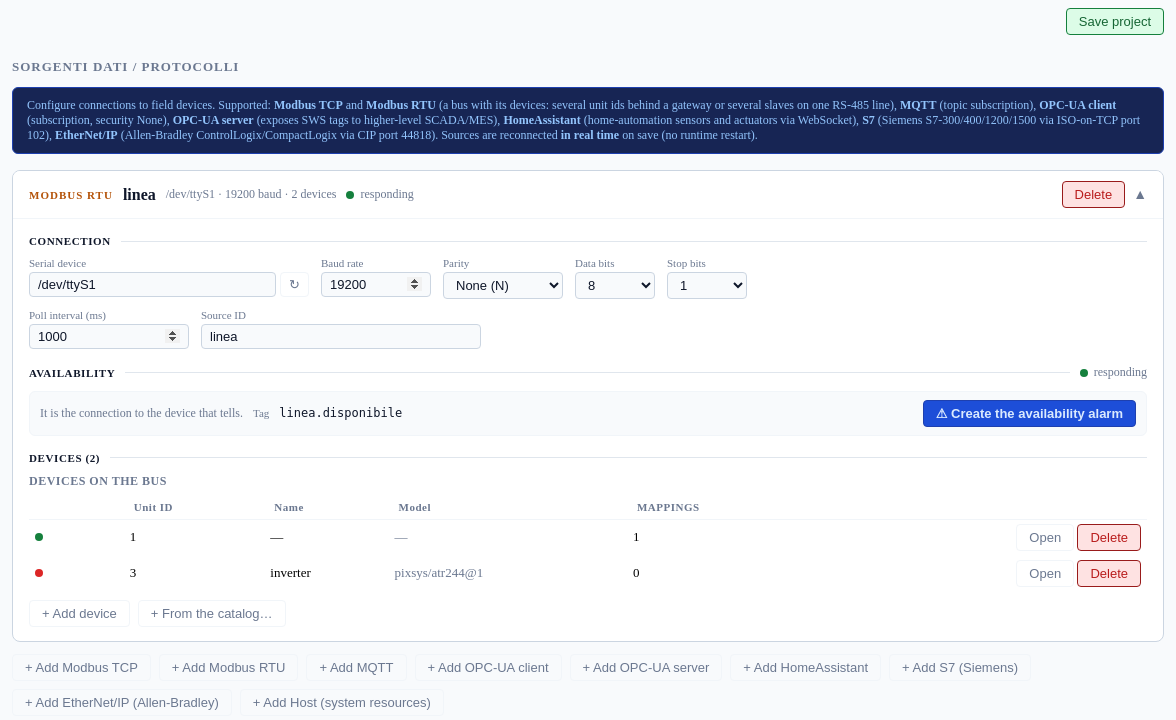
Test: Protocolli: bus → dispositivi › un dispositivo appena aggiunto si annulla; uno salvato si elimina; si torna al bus
Click the button with test id "modbus-dev-add-linea". click: point(79, 613)
box: [29,600,130,626]
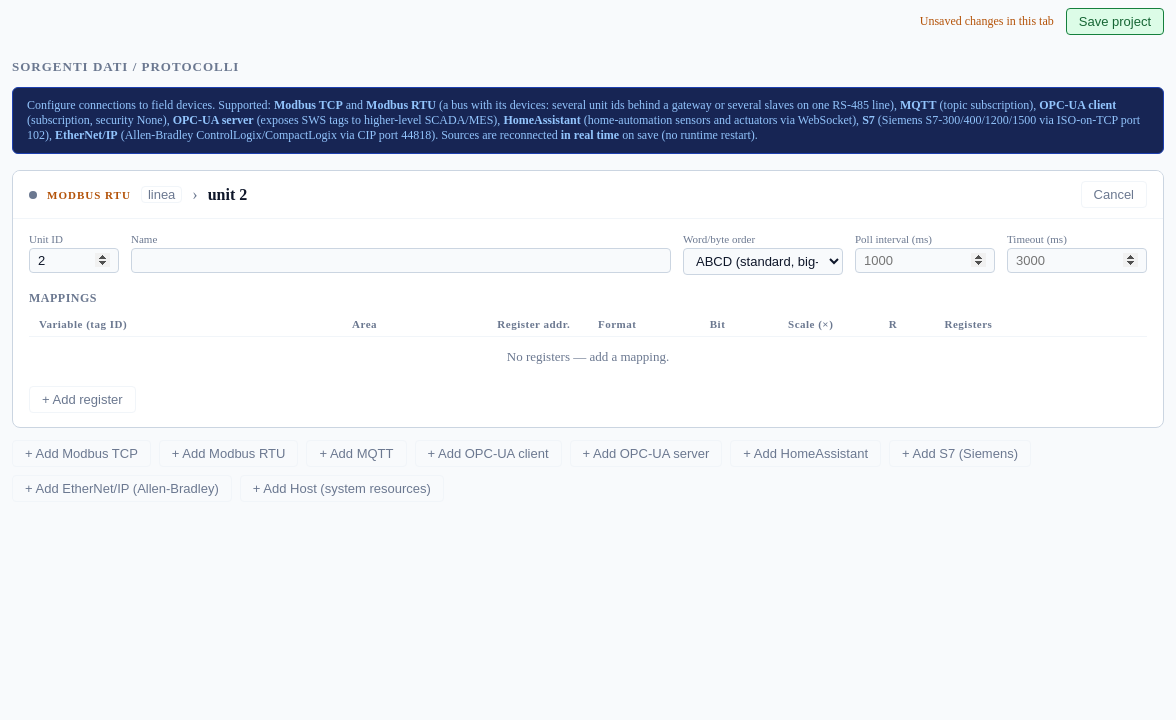
Check: the button with test id "modbus-dev-remove-linea-2" reads "Cancel"
Click the button with test id "modbus-dev-remove-linea-2". click: point(1114, 194)
box: [1080,181,1147,208]
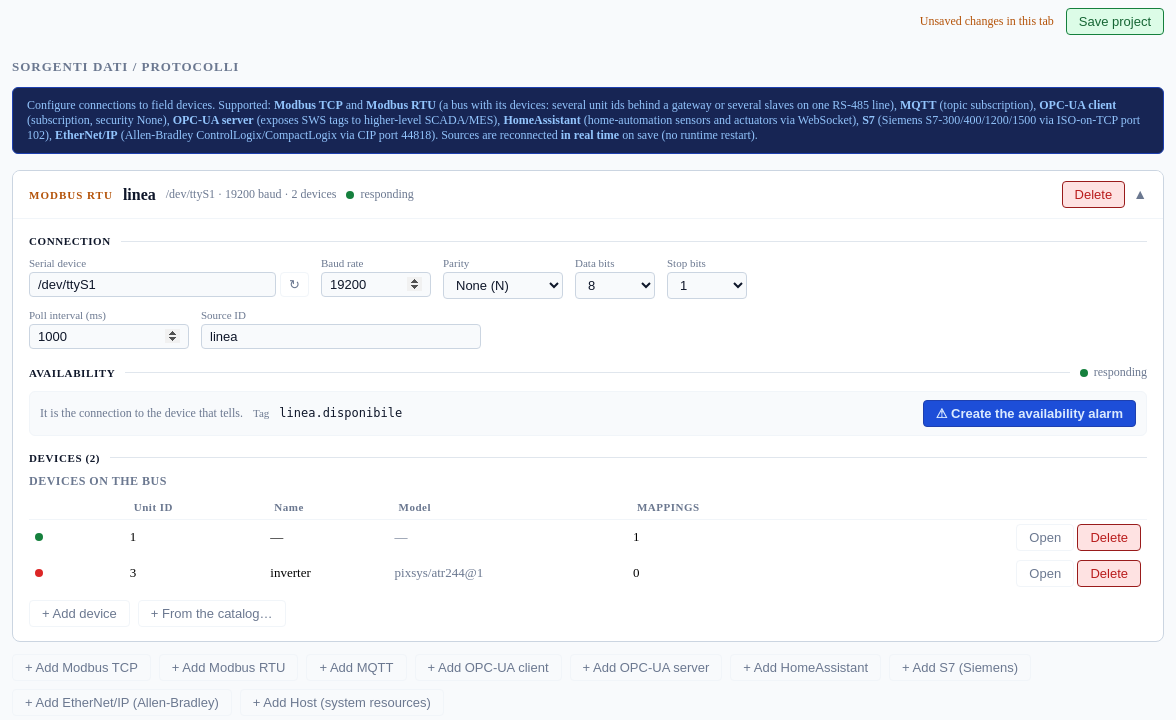
Check: the text "linea" is shown, box [123,186,156,204]
